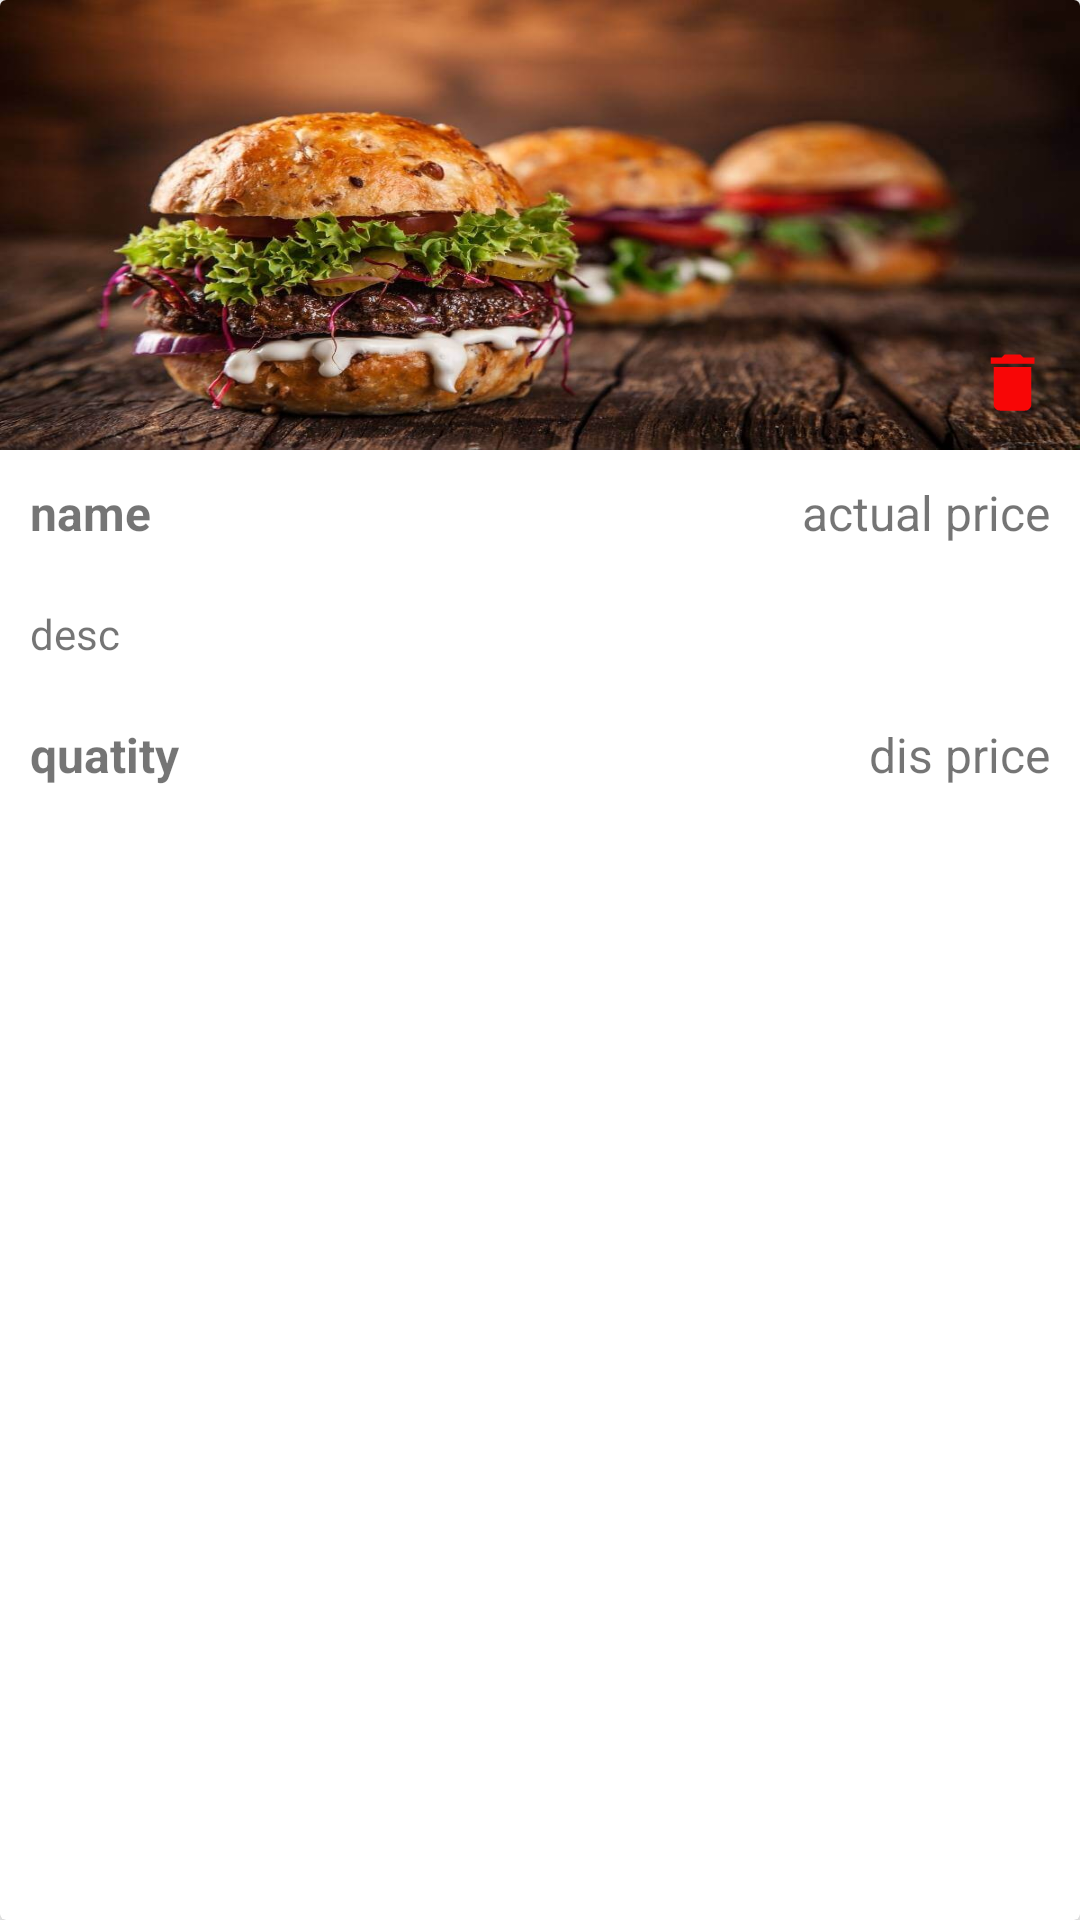

Icons on this 1080px x 1920px Android screen, each with the point to tap as (x,y):
delete: (1012,387)
